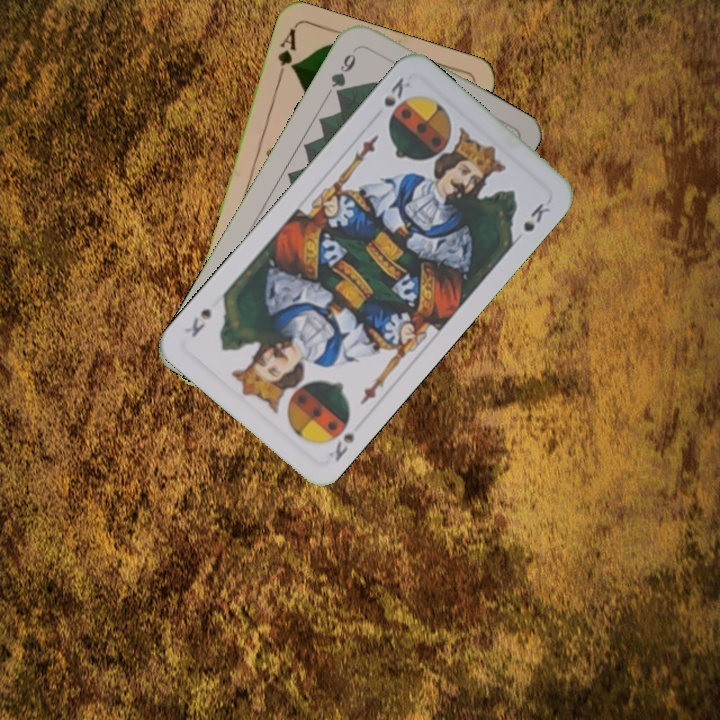G9: (326, 43, 361, 101)
GA: (273, 24, 299, 83)
SK: (380, 73, 413, 109), (324, 429, 357, 465)
